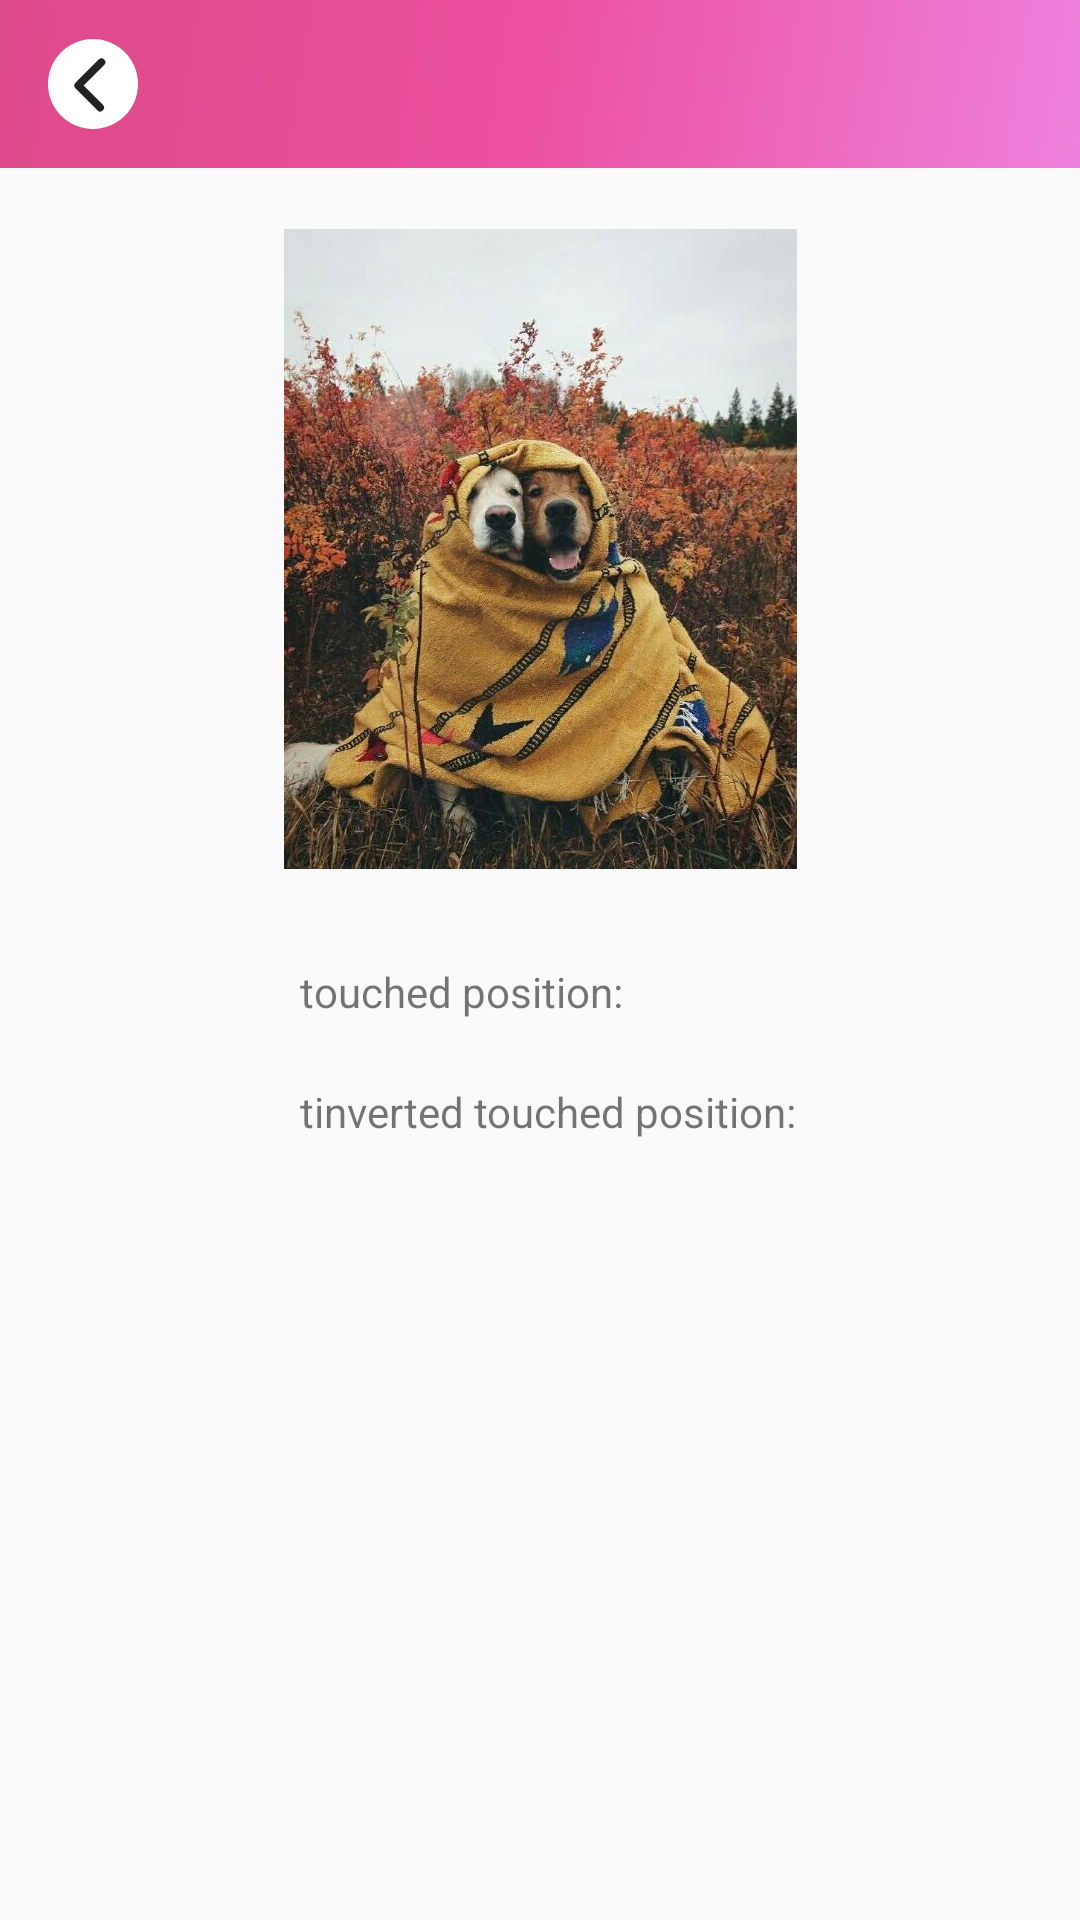

Icon bounding boxes for this 1080w x 1920h phone screenshot, format (x1, y1, x2, y2):
bar back: (48, 39, 138, 129)
